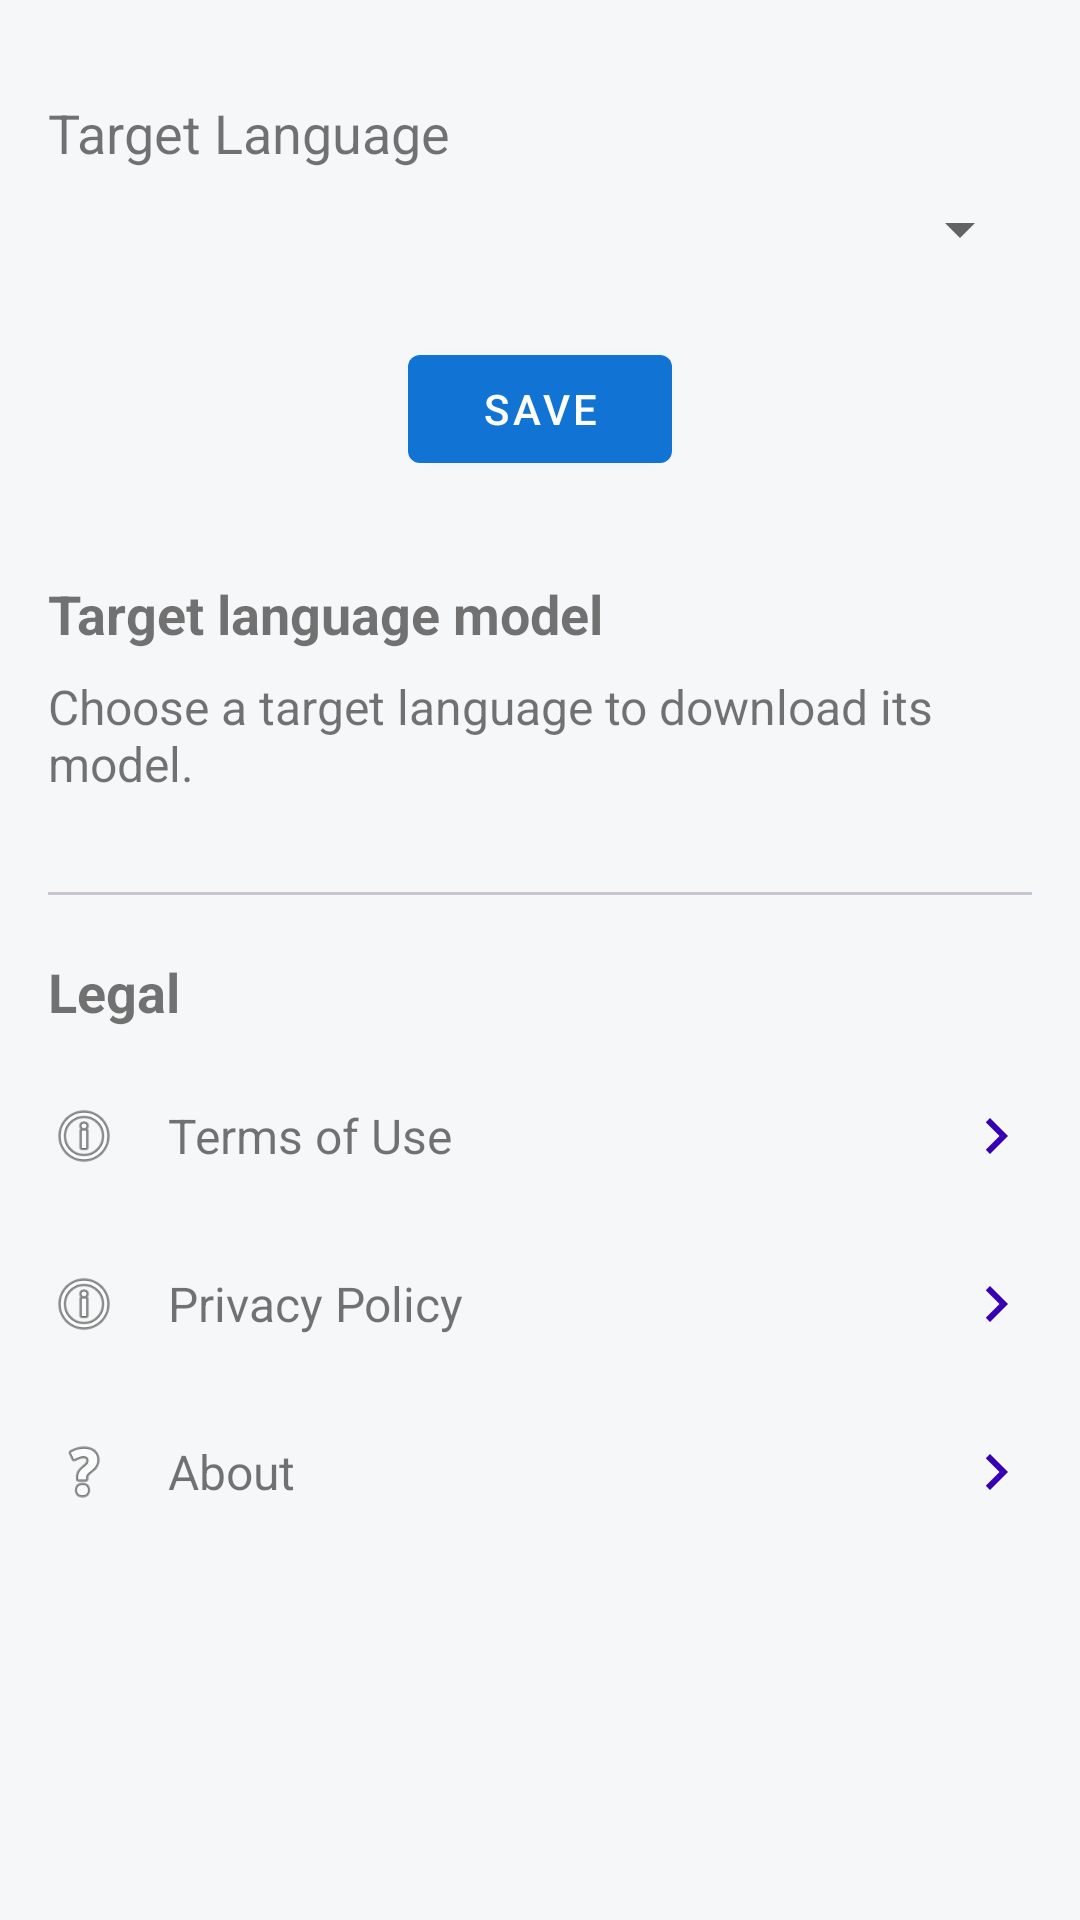

Icon click points for this 1080 x 1920 phone screenshot, format (x,y):
chevron right: (997,1136), (997,1304), (997,1472)
help: (84,1472)
info details: (84,1136), (84,1304)
